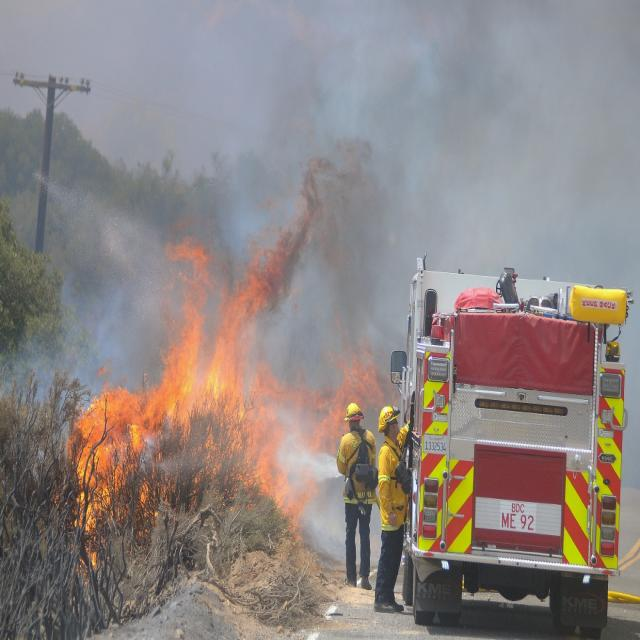Fire: (82, 269, 348, 530)
Smoke: (250, 11, 633, 348), (0, 251, 149, 392)
